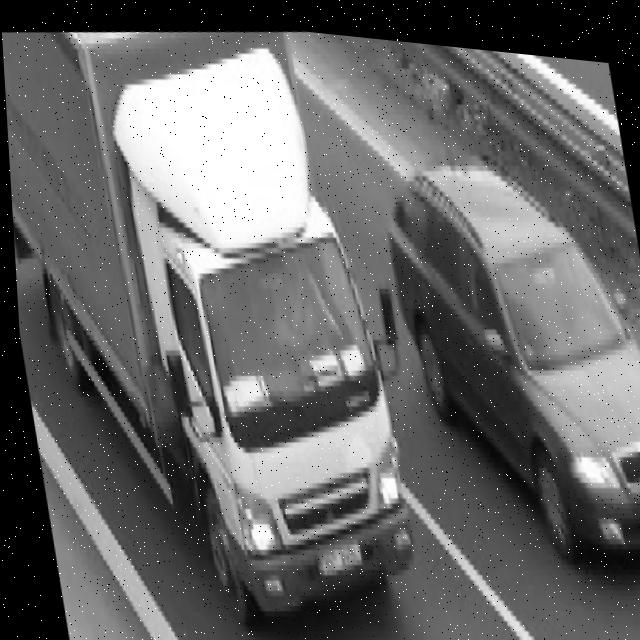truck: (50, 19, 461, 640)
